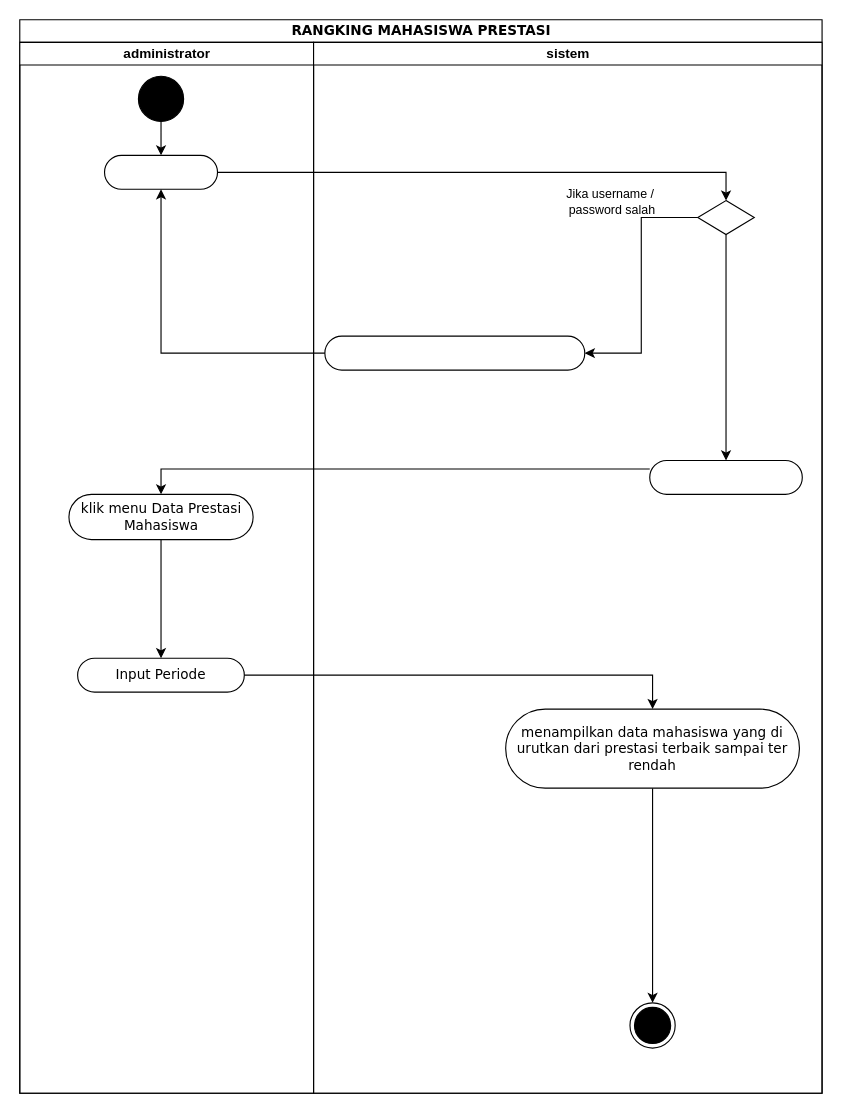
Some shapes in this 842 by 1113 pixel diagram are drawn without their labels. The centre of each missing label's shape, as x and y in pixels:
halaman utama: point 725,476
Login: point 160,171
menampilkan pesan eror: point 454,352
